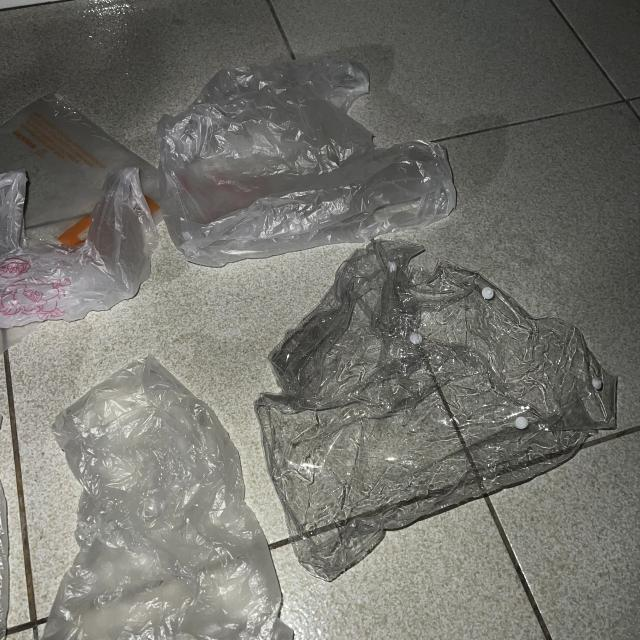Single-layer Plastic: (255, 241, 616, 580), (43, 356, 292, 640), (158, 58, 456, 266), (0, 168, 156, 328), (0, 95, 158, 227)
